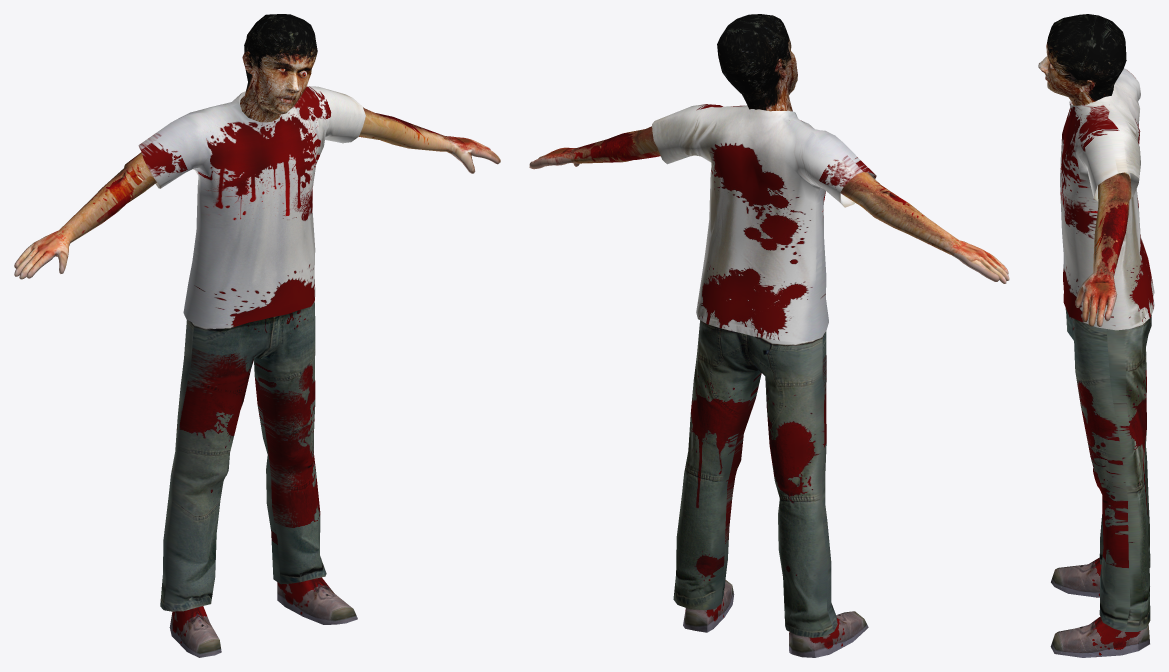
The model's file is zombie1.fbx.
3 renders of one model, left to right at view 1: azimuth 30°, elevation 25°; view 2: azimuth 150°, elevation 25°; view 3: azimuth 270°, elevation 25°, orthographic.
Visible parts, largest first — view 1: cman0010_tp_Mesh; view 2: cman0010_tp_Mesh; view 3: cman0010_tp_Mesh.
Boxes of the visible parts, box(x1,y1,x2,y2) form: cman0010_tp_Mesh: box(14, 14, 500, 657); cman0010_tp_Mesh: box(529, 14, 1009, 657); cman0010_tp_Mesh: box(1038, 14, 1154, 657).
Bounding box in the file's own units: 3.49 × 4.22 × 0.7251.
1 material, 1 textured.
